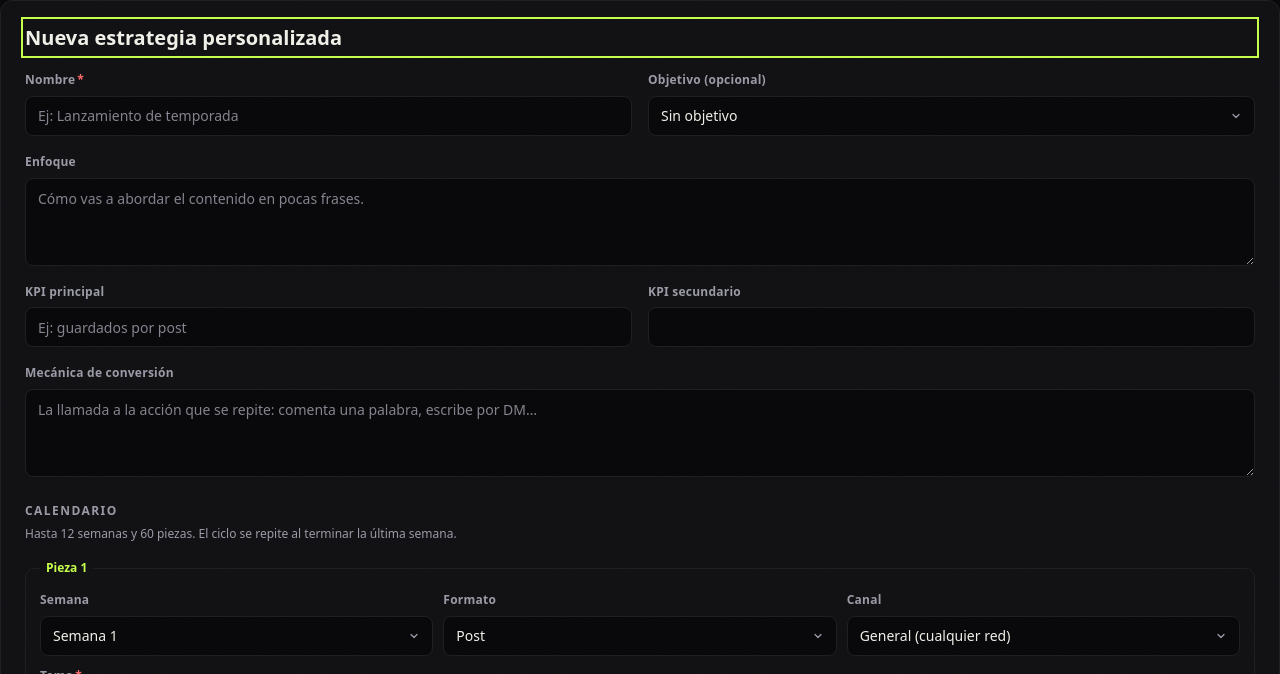
Test case: CustomStrategyEditor — validación › con nombre pero una pieza sin tema tampoco guarda
Type "Lanzamiento" into the field labelled "Nombre" at (328, 116), box [25,96,632,136]
(page scrolled)
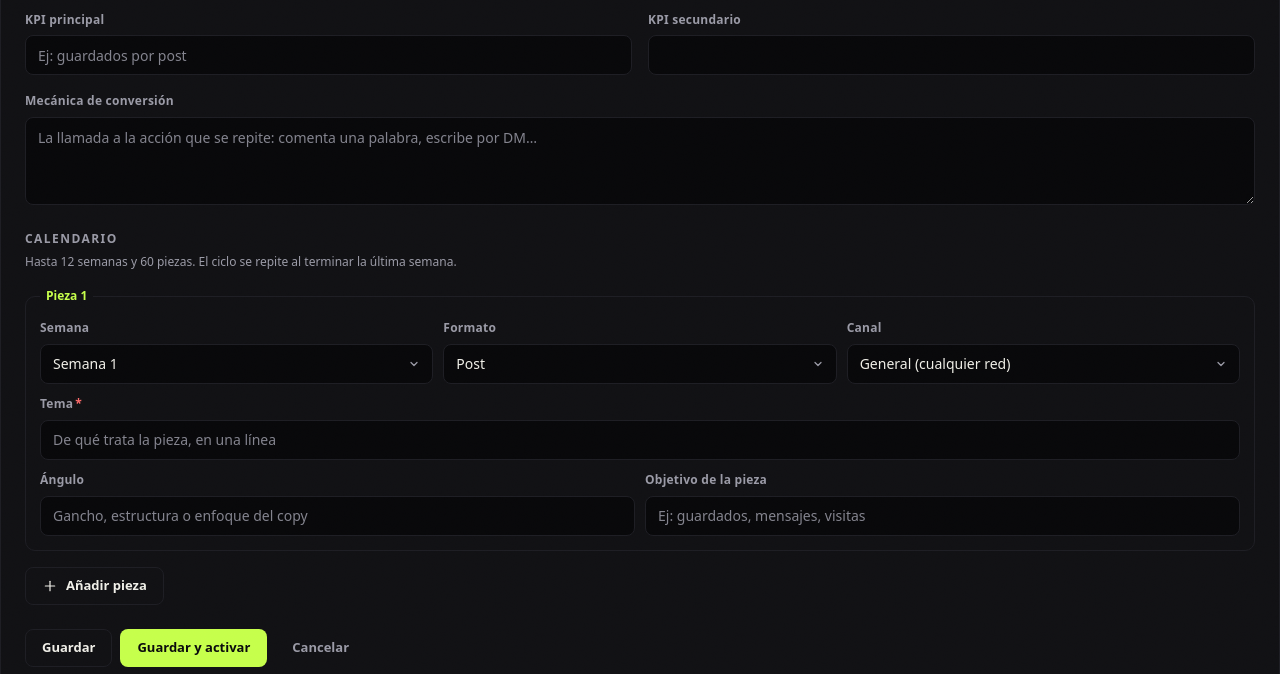
Click the button "Guardar y activar" at (194, 648), box [120,629,267,667]
(page scrolled)
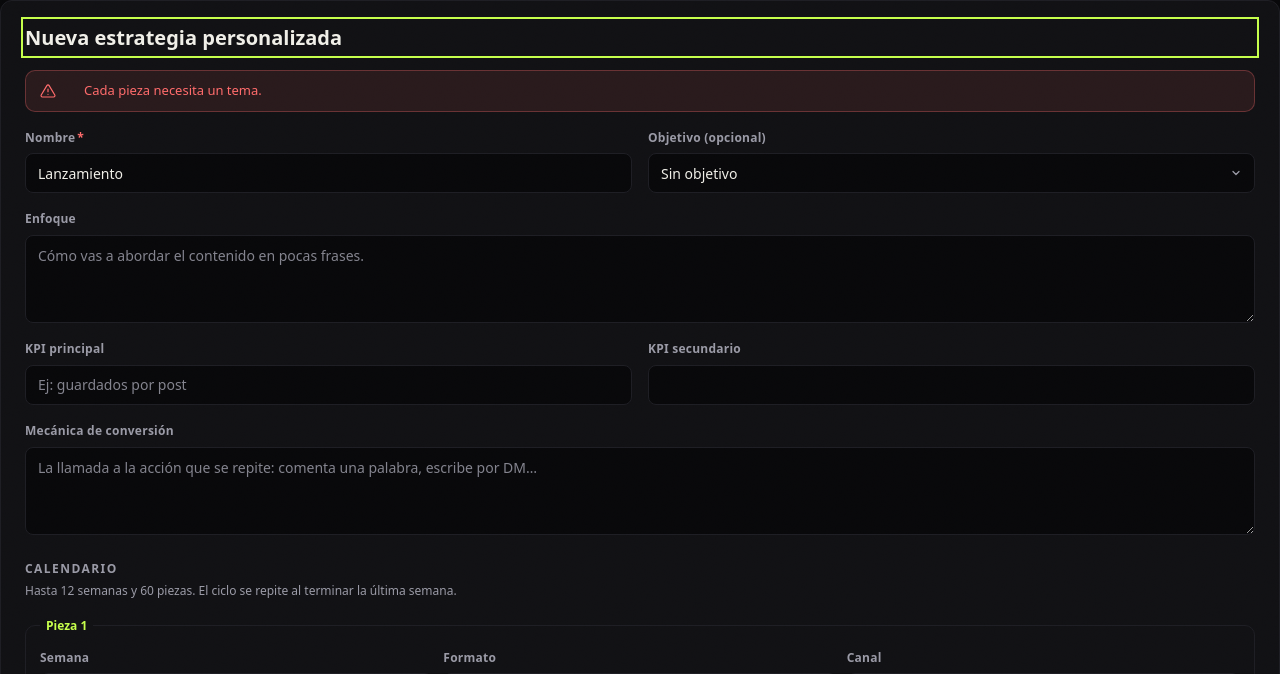
Expected: the message does not show "Ponle un nombre", [25,70,1255,112]
Now the message reads "Cada pieza necesita un tema.", box [84,81,262,99]
